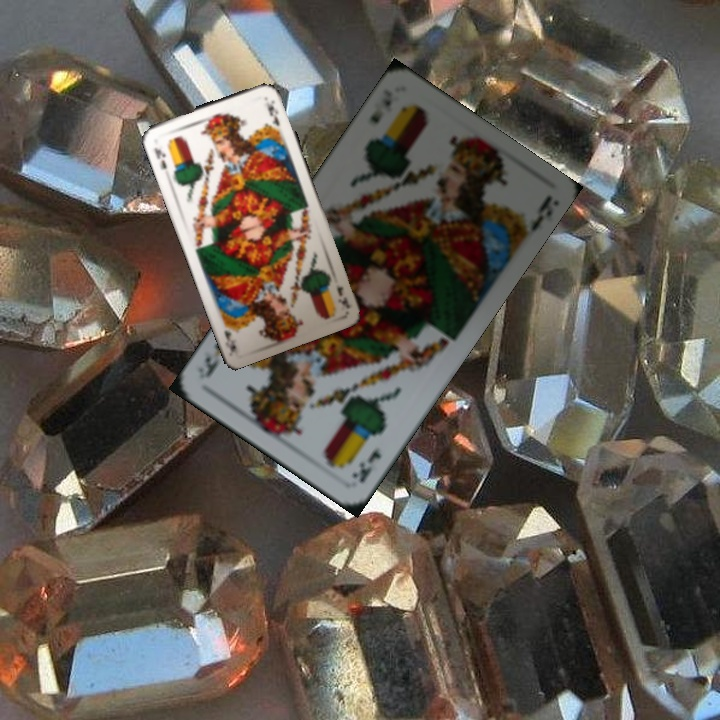EK: (347, 442, 385, 485), (366, 85, 396, 127), (332, 280, 353, 310), (150, 143, 170, 172)
